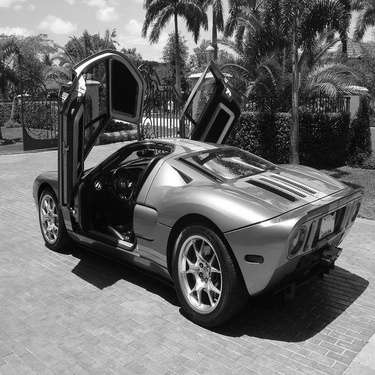car: (24, 46, 368, 338)
